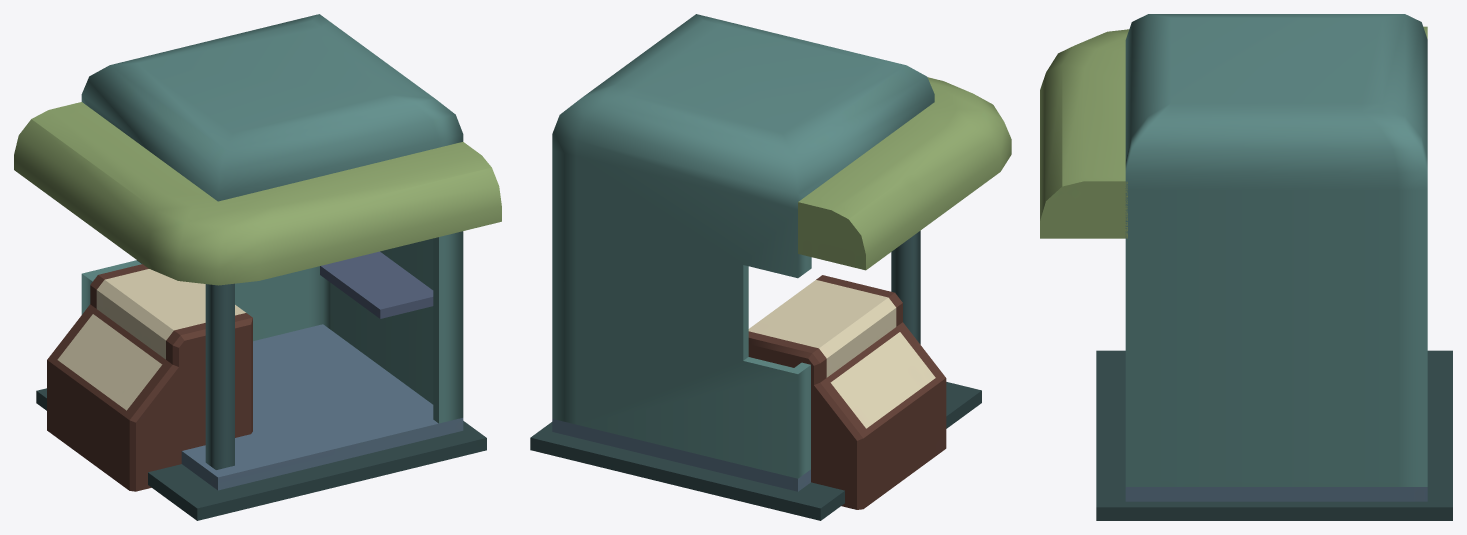
Rendered from Foodstand_07.fbx.
3 renders of one model, left to right at view 1: azimuth 30°, elevation 25°; view 2: azimuth 150°, elevation 25°; view 3: azimuth 270°, elevation 25°, orthographic. The views are drawn at different scales.
Parts seen in each view (by area): view 1: Foodstand_07; view 2: Foodstand_07; view 3: Foodstand_07.
Boxes of the visible parts, box(x1,y1,x2,y2) form: Foodstand_07: box(14, 14, 501, 520); Foodstand_07: box(530, 14, 1011, 520); Foodstand_07: box(1040, 14, 1452, 520).
Bounding box in the file's own units: 10.34 × 10.7 × 10.32.
Materials: 1 (1 with a texture image).
